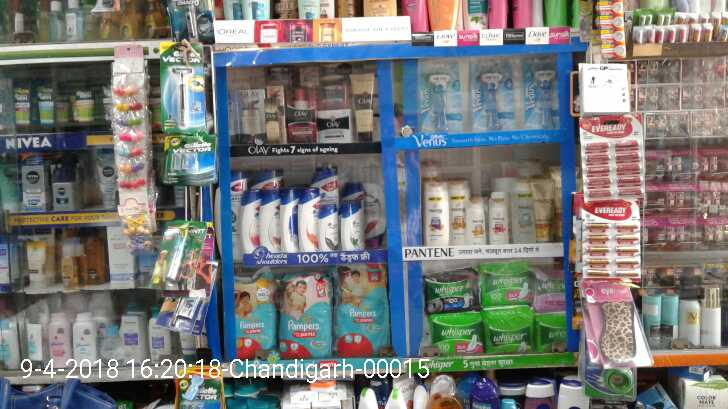gillete: (160, 41, 207, 135), (165, 135, 217, 182), (169, 1, 215, 43)
venus: (417, 61, 464, 132), (469, 61, 516, 131), (521, 57, 559, 130)
